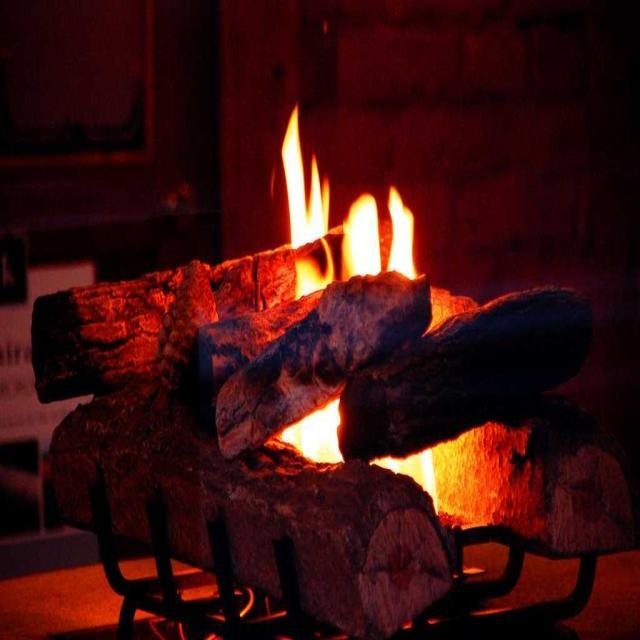Fire: (278, 129, 421, 287), (267, 398, 378, 456)
